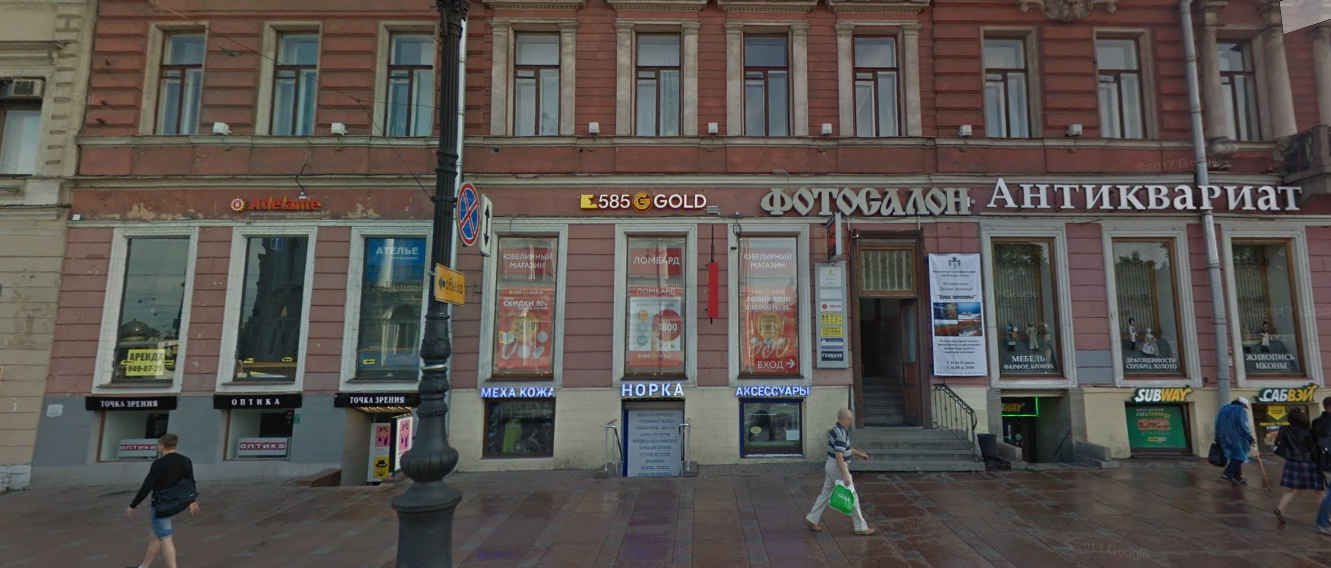cantilever: (695, 222, 726, 330), (818, 211, 842, 268)
door: (852, 299, 938, 432)
signboard: (983, 175, 1313, 223), (756, 181, 972, 218), (576, 191, 715, 212), (220, 189, 323, 216), (1249, 381, 1319, 404), (729, 379, 813, 398), (1126, 383, 1197, 405), (212, 391, 300, 408), (79, 395, 177, 409), (470, 385, 561, 399), (620, 380, 688, 397), (331, 393, 412, 407)
win_ad: (617, 247, 683, 361), (740, 242, 796, 376), (499, 244, 551, 374), (1125, 404, 1187, 455)
window: (106, 237, 191, 386), (346, 237, 430, 382), (1232, 237, 1313, 380), (1113, 241, 1195, 381), (229, 233, 307, 380), (990, 238, 1068, 380), (613, 233, 689, 374), (485, 235, 556, 381), (740, 239, 794, 379), (1098, 36, 1154, 142), (378, 30, 433, 135), (266, 29, 319, 137), (1219, 29, 1269, 143), (152, 29, 204, 135), (739, 34, 788, 141), (515, 32, 564, 136), (856, 36, 902, 143), (637, 33, 681, 137), (988, 37, 1031, 136)
